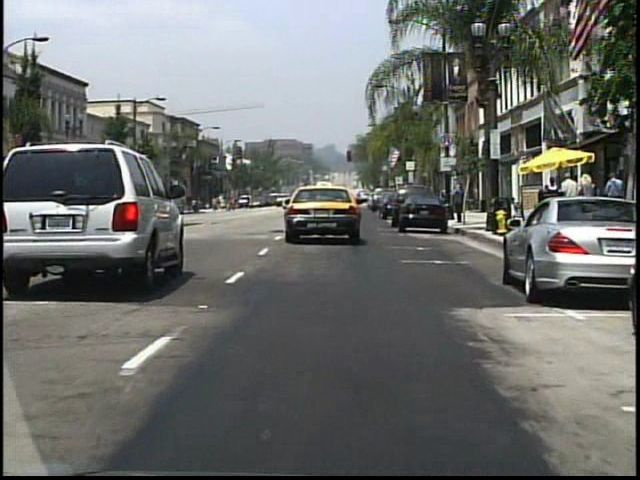person: (602, 170, 624, 227), (574, 171, 596, 224), (560, 171, 579, 225), (540, 175, 560, 224), (245, 193, 253, 208)
